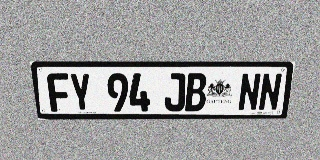4: (129, 73, 150, 112)
9: (107, 73, 129, 112)
B: (185, 73, 207, 111)
F: (46, 73, 72, 112)
J: (164, 73, 186, 111)
N: (237, 73, 262, 111), (258, 73, 283, 111)
Y: (68, 73, 93, 112)
